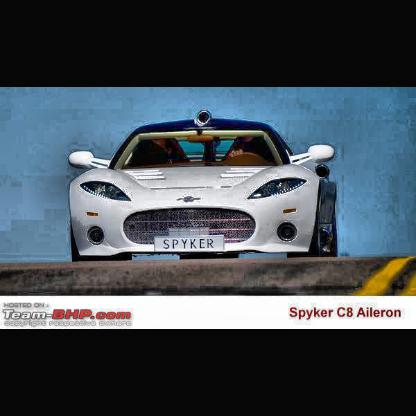Spyker C8 Coupe 2009: (67, 108, 342, 264)
